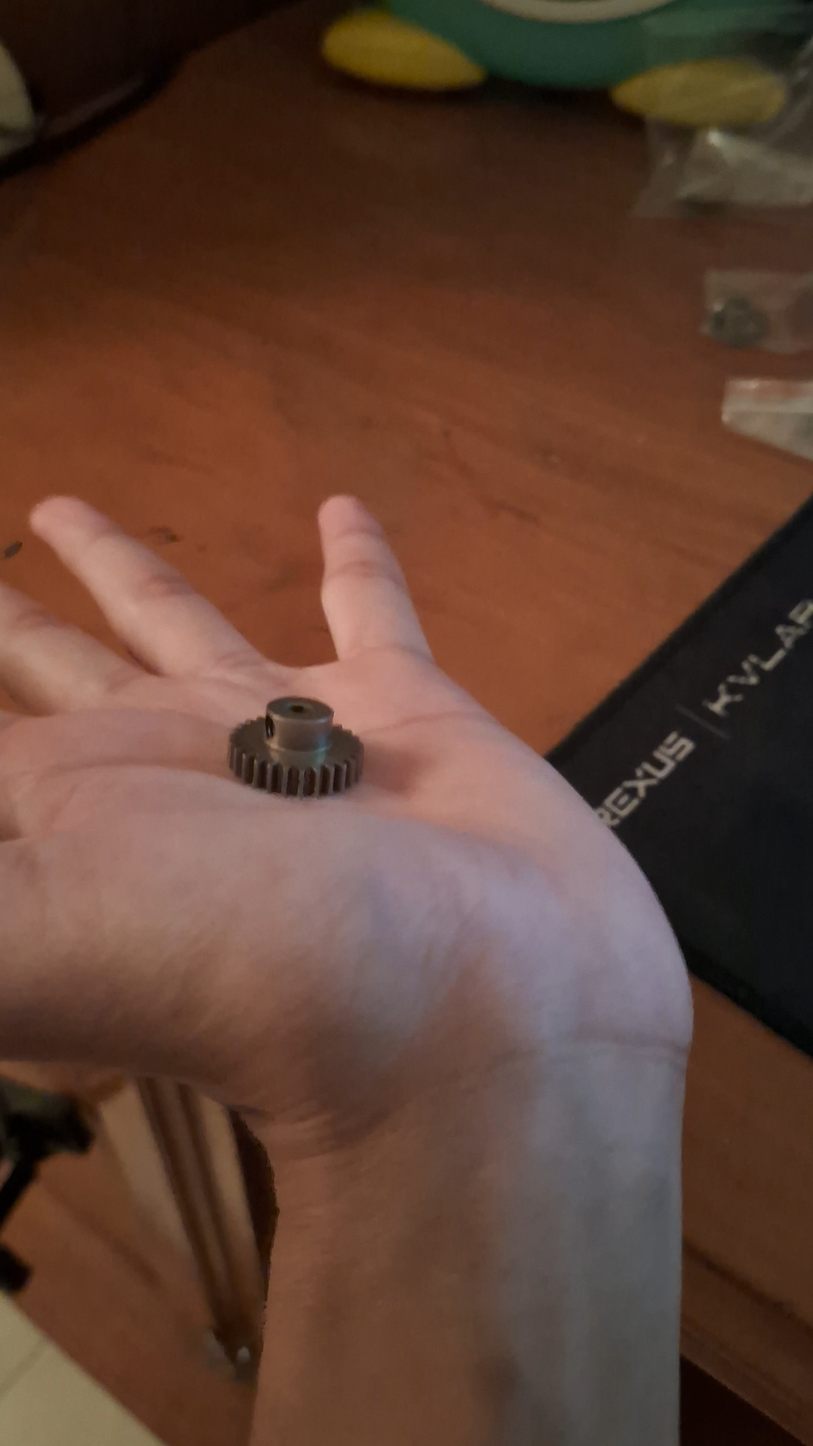spur gear: (228, 696, 364, 799)
